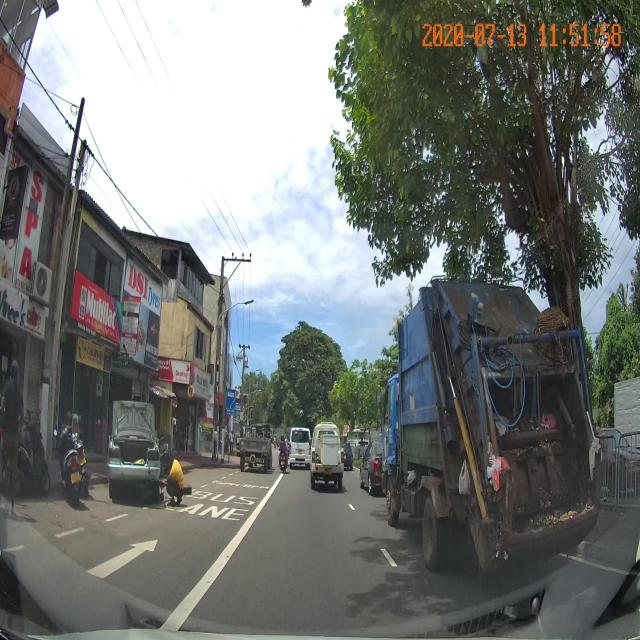BUS LANE: (152, 488, 262, 524)
Strelka vpered: (85, 538, 159, 580)
